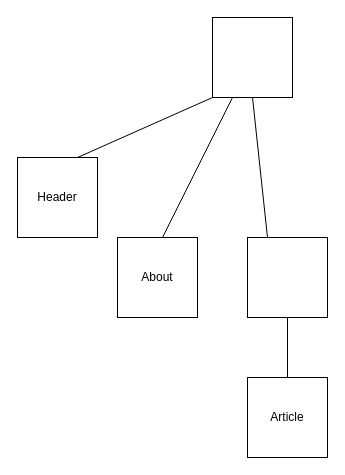
The diagram is 345 pixels wide and 475 high, and some of its shapes have lost their labels. Each missing label, with the box of its shape:
App: (212, 16, 292, 98)
Article List: (246, 236, 328, 318)
